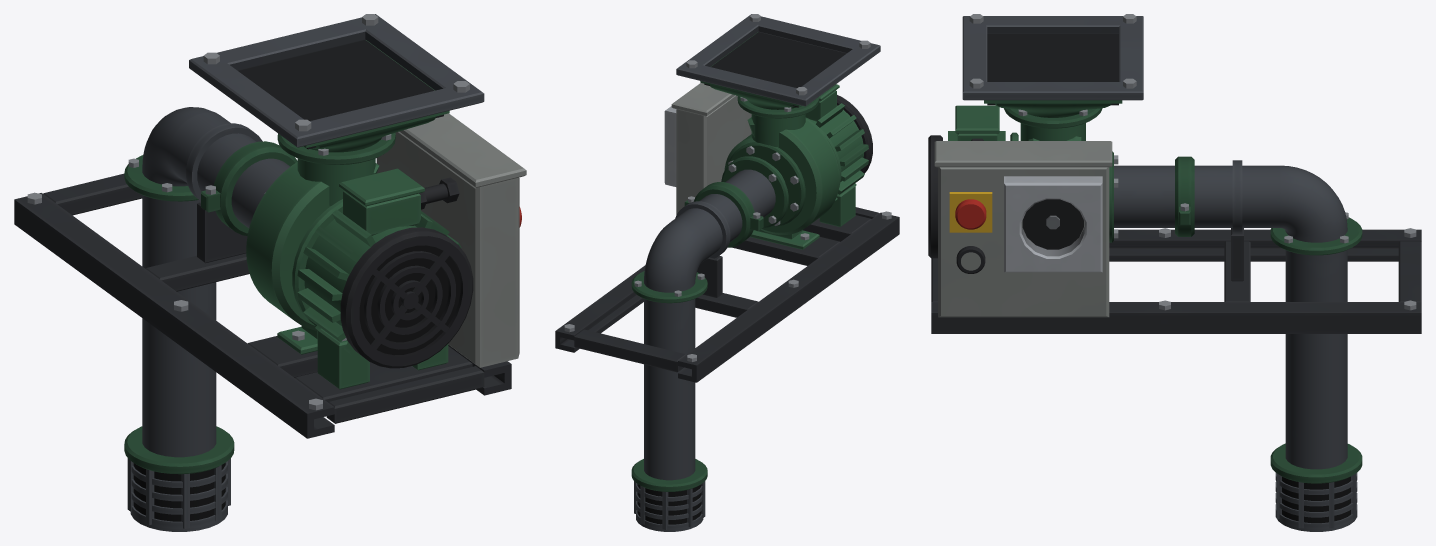
File: body.obj
3 renders of one model, left to right at view 1: azimuth 30°, elevation 25°; view 2: azimuth 150°, elevation 25°; view 3: azimuth 270°, elevation 25°, orthographic. The views are drawn at different scales.
Visible parts, largest first — view 1: body_starter_box, body_suction_pipe, body_channels, body_fport_plate, body_cross, body_fport_throat, body_volute, body_grille_rings, body_fan_cowl, body_terminal_box, body_strainer_bands, body_grille (+18 smaller); view 2: body_suction_pipe, body_channels, body_fport_plate, body_starter_box, body_cross, body_volute, body_fport_throat, body_elbow, body_strainer_bands, body_cover, body_fins, body_suction_flange (+16 smaller); view 3: body_suction_pipe, body_starter_box, body_channels, body_fport_plate, body_pport_plate, body_fport_throat, body_elbow, body_cross, body_strainer_bands, body_pport_socket, body_strainer_flange, body_terminal_box (+11 smaller).
Part boxes in pixels (x1=…): body_starter_box: x1=376, y1=113, x2=526, y2=367; body_suction_pipe: x1=142, y1=112, x2=290, y2=457; body_channels: x1=14, y1=193, x2=511, y2=438; body_fport_plate: x1=189, y1=14, x2=484, y2=147; body_cross: x1=43, y1=173, x2=484, y2=423; body_fport_throat: x1=238, y1=40, x2=443, y2=149; body_volute: x1=246, y1=162, x2=379, y2=330; body_grille_rings: x1=355, y1=241, x2=467, y2=361; body_fan_cowl: x1=340, y1=227, x2=473, y2=368; body_terminal_box: x1=339, y1=168, x2=424, y2=235; body_strainer_bands: x1=127, y1=458, x2=230, y2=529; body_grille: x1=359, y1=245, x2=460, y2=355; body_suction_pipe: x1=644, y1=169, x2=775, y2=480; body_channels: x1=555, y1=212, x2=899, y2=382; body_fport_plate: x1=676, y1=14, x2=880, y2=106; body_starter_box: x1=671, y1=83, x2=751, y2=214; body_cross: x1=574, y1=207, x2=879, y2=372; body_volute: x1=724, y1=117, x2=839, y2=234; body_fport_throat: x1=704, y1=32, x2=846, y2=107; body_elbow: x1=644, y1=220, x2=706, y2=292; body_strainer_bands: x1=634, y1=481, x2=705, y2=529; body_cover: x1=727, y1=141, x2=805, y2=226; body_fins: x1=816, y1=103, x2=868, y2=200; body_suction_flange: x1=721, y1=156, x2=788, y2=228; body_suction_pipe: x1=1114, y1=165, x2=1347, y2=469; body_starter_box: x1=934, y1=141, x2=1112, y2=317; body_channels: x1=931, y1=229, x2=1421, y2=333; body_fport_plate: x1=962, y1=16, x2=1143, y2=100; body_pport_plate: x1=1004, y1=176, x2=1102, y2=272; body_fport_throat: x1=987, y1=34, x2=1118, y2=105; body_elbow: x1=1280, y1=165, x2=1347, y2=242; body_cross: x1=931, y1=241, x2=1421, y2=301; body_strainer_bands: x1=1275, y1=473, x2=1357, y2=528; body_pport_socket: x1=1022, y1=199, x2=1083, y2=249; body_strainer_flange: x1=1270, y1=443, x2=1362, y2=483; body_terminal_box: x1=955, y1=105, x2=999, y2=140.
Bounding box in the file's own units: 0.875 × 1.96 × 1.88.
